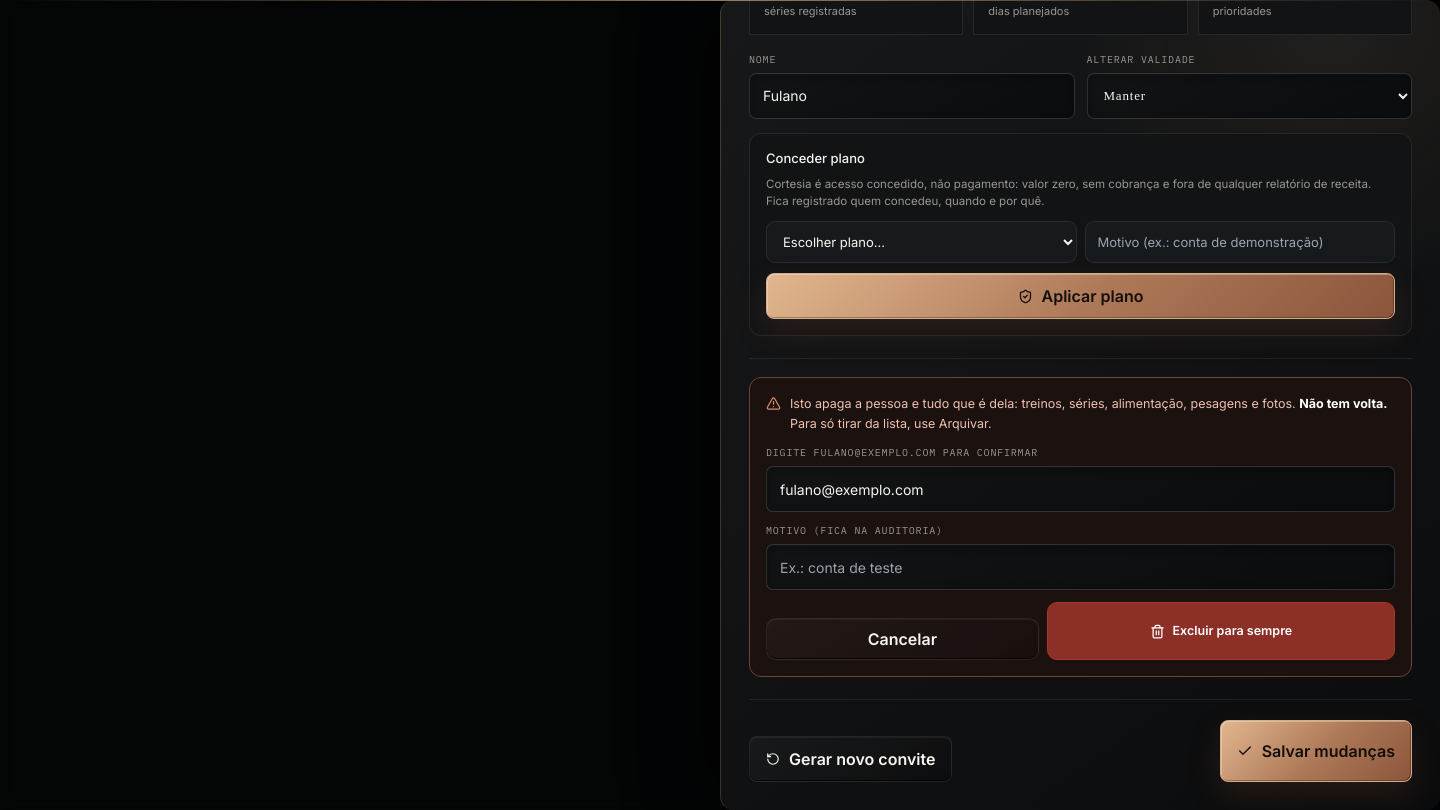
Test: cancelar fecha a area de risco e nao exclui nada
The width and height of the screenshot is (1440, 810).
Earlier steps of the test are not shown.
(page scrolled)
Click the button "Cancelar": [902, 639] box [766,618,1039,660]
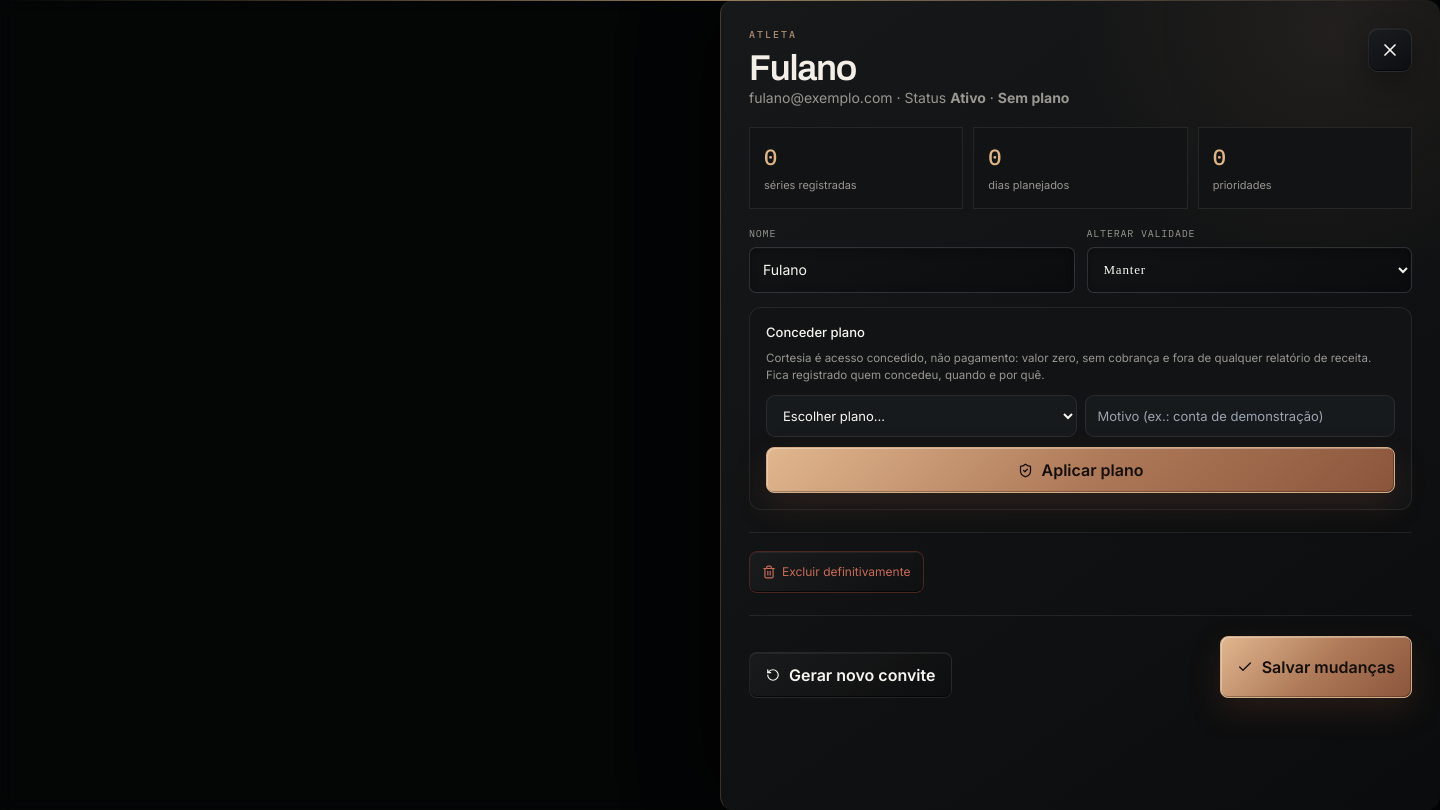
Expected: the button with test id "exclusao-confirmar" is gone
